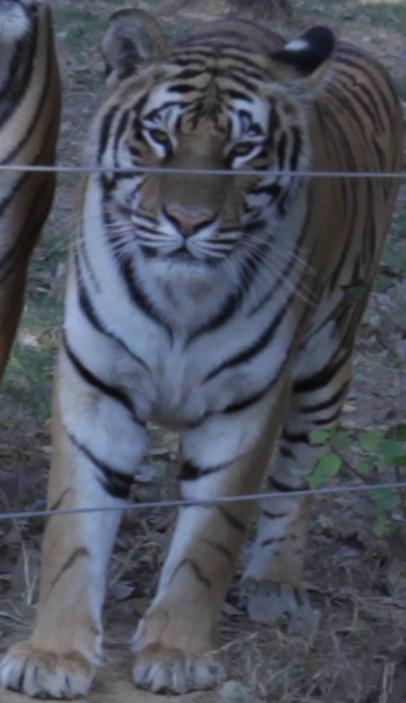tiger: (50, 9, 401, 692), (0, 510, 123, 696)
